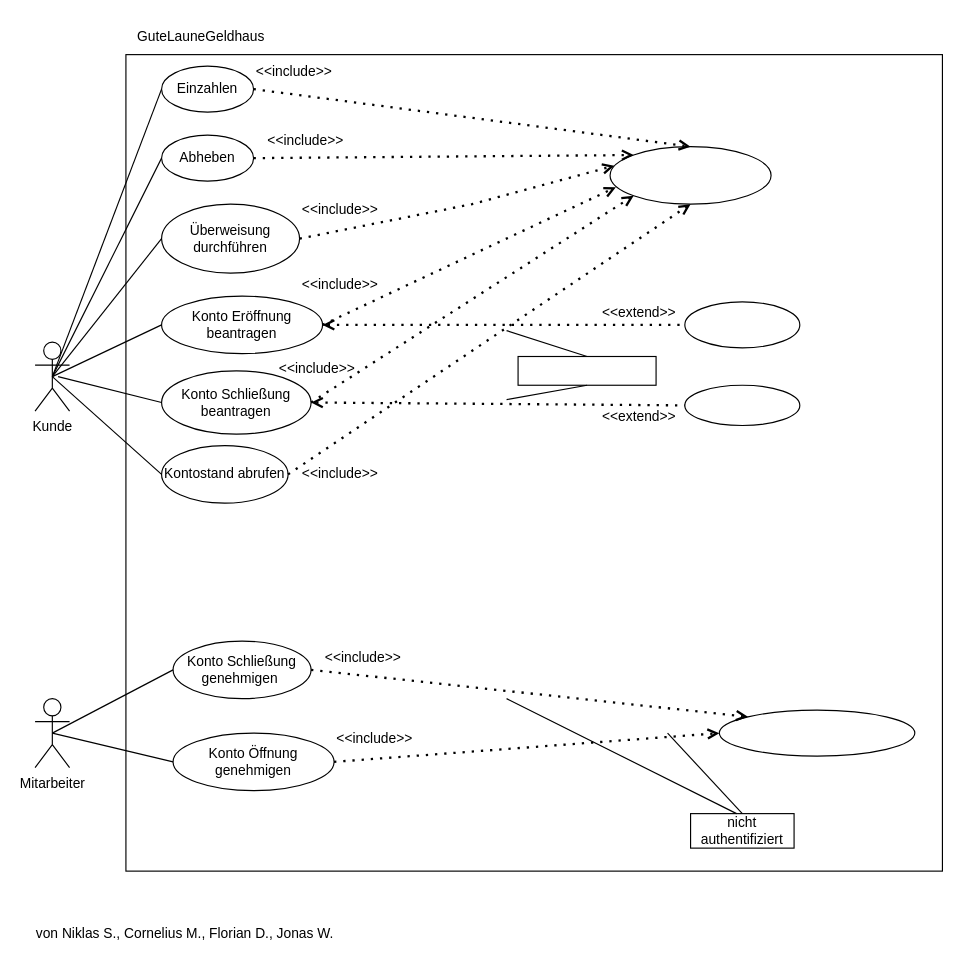
The diagram is 963 pixels wide and 971 high, and some of its shapes have lost their labels. Here are the shapes that lost their labels. From the top down, the centre of each, then its label:
At point 690,174: "Authentifizierung Kunde".
At point 742,324: "Konto eröffnen".
At point 586,370: "Vorgang genehmigt".
At point 742,404: "Konto schließen".
At point 816,732: "Authentifizierung Mitarbeiter".
